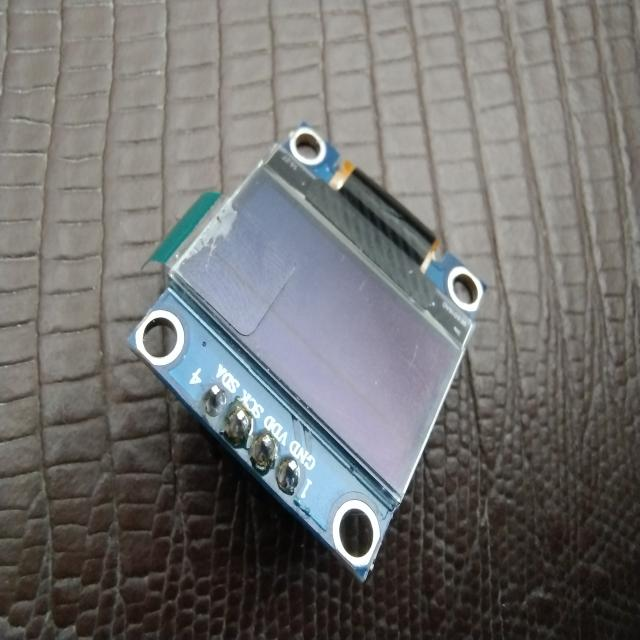oled: (127, 109, 500, 594)
